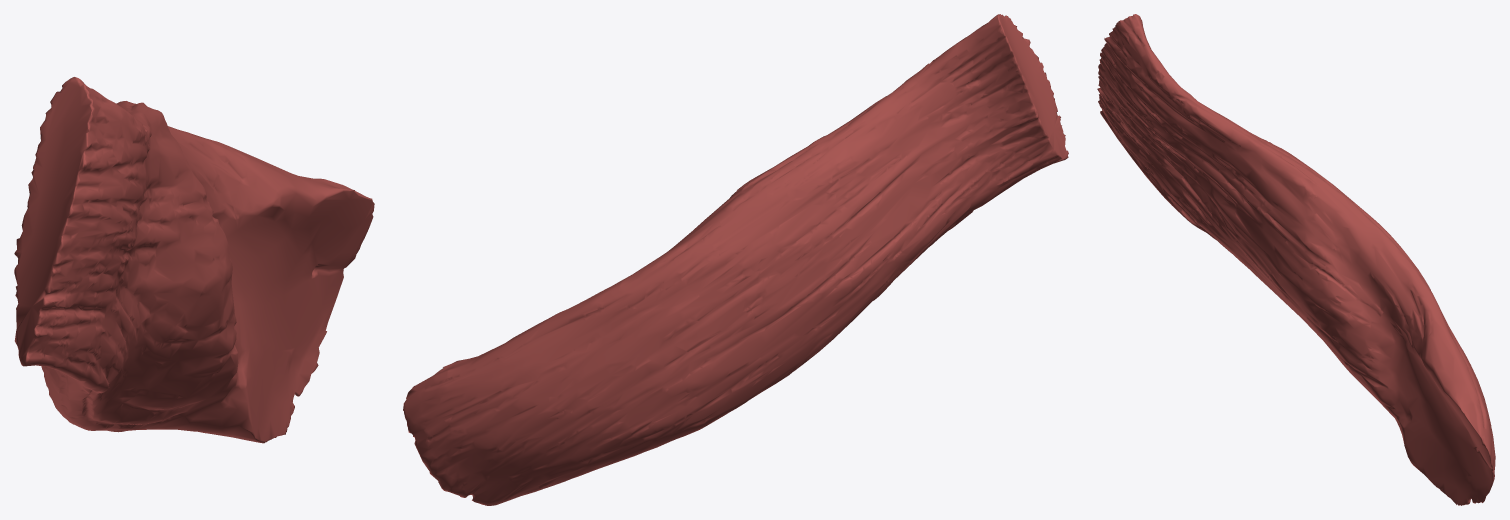
Rendered from FMA32551.glb.
The picture shows the model from 3 angles, left to right: view 1: azimuth 30°, elevation 25°; view 2: azimuth 150°, elevation 25°; view 3: azimuth 270°, elevation 25°; orthographic projection. The views are drawn at different scales.
Visible parts, largest first — view 1: FMA32551; view 2: FMA32551; view 3: FMA32551.
Part boxes in pixels (bbox=[...]): FMA32551: bbox=[14, 77, 374, 443]; FMA32551: bbox=[403, 14, 1068, 505]; FMA32551: bbox=[1097, 14, 1495, 505].
Bounding box in the file's own units: 0.0927 × 0.0869 × 0.0869.
